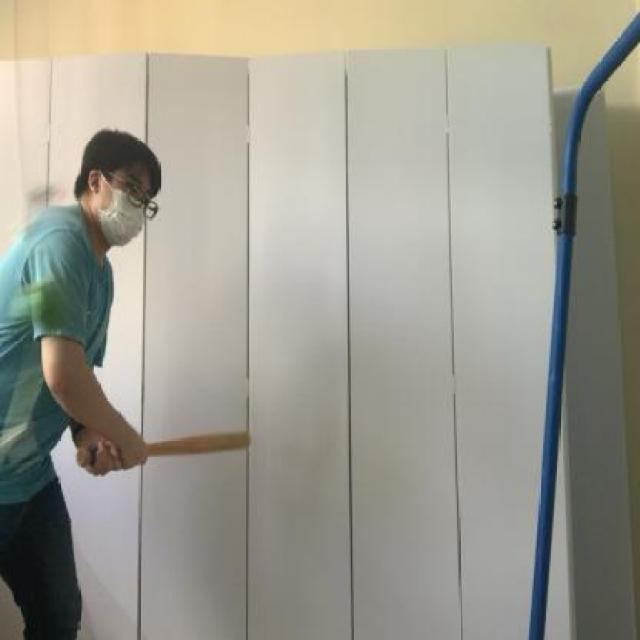baseball: (21, 271, 84, 337)
